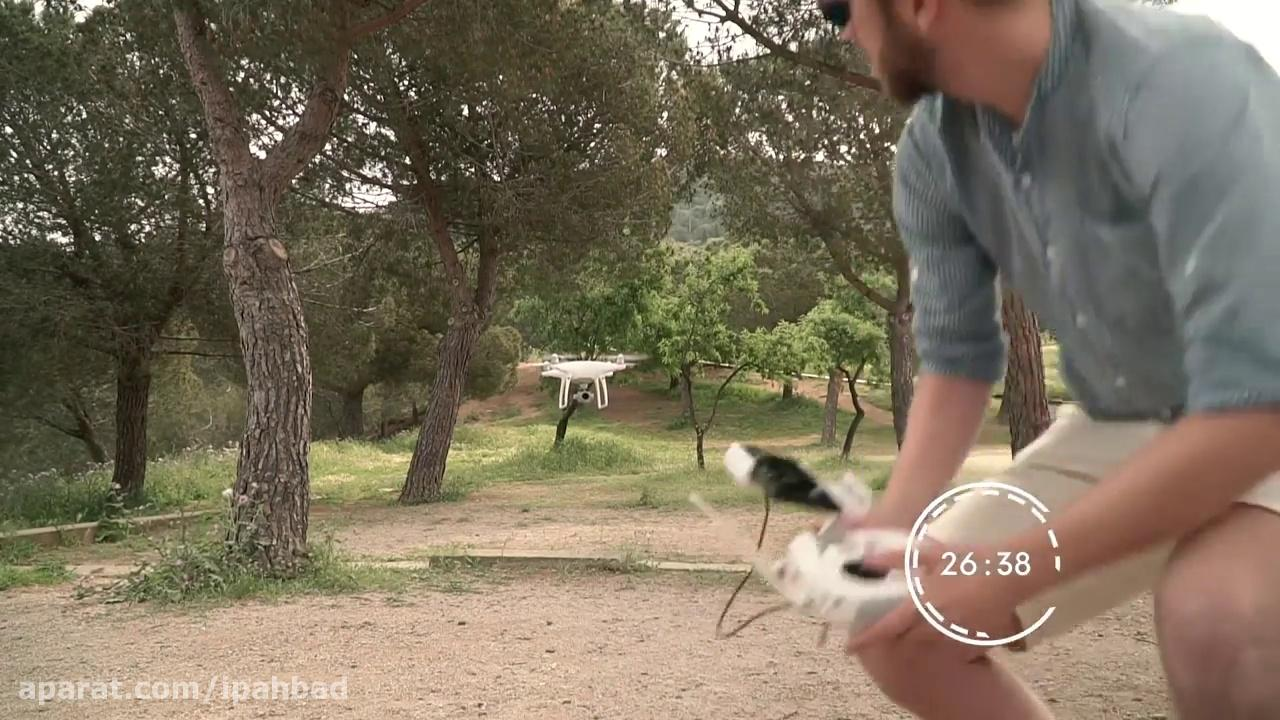drone: (526, 349, 651, 411)
